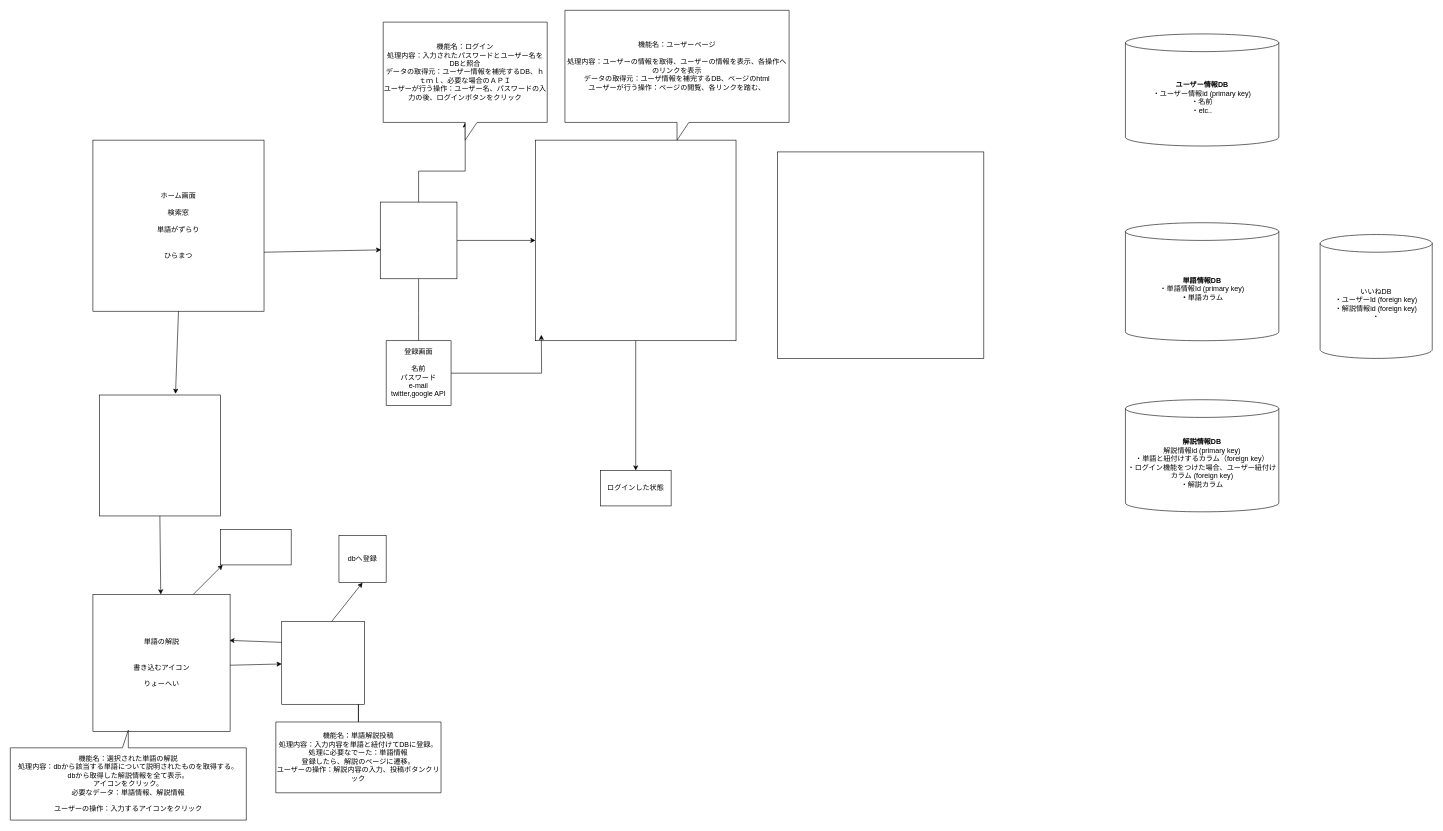
The diagram is 1443 pixels wide and 831 high, and some of its shapes have lost their labels. Here are the shapes that lost their labels. From the top down, the centre of each, then its label:
At pixel 418 240: "ログイン パスワード ユーザー名 ひろみ".
At pixel 635 240: "ユーザーページ ユーザー名 過去の投稿一覧 ログアウト s".
At pixel 880 254: "機能名 処理内容 処理に必要なデータ データの取得元 ユーザーが行い操作".
At pixel 159 455: "単語 解説 解説 解説 ひらまつ".
At pixel 255 547: "dbへ検索".
At pixel 322 662: "解説 投稿 りょーへい".
